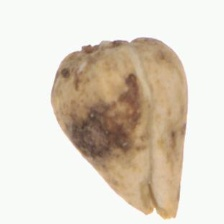L1: (139, 183, 179, 220), (73, 35, 151, 53)
L2: (51, 37, 188, 219)
